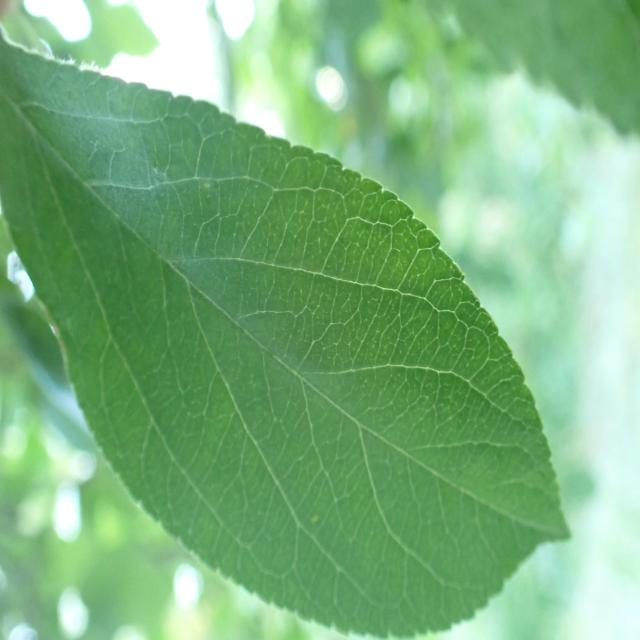healthy: (0, 26, 571, 640)
